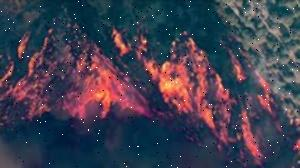fire: (0, 31, 263, 162)
